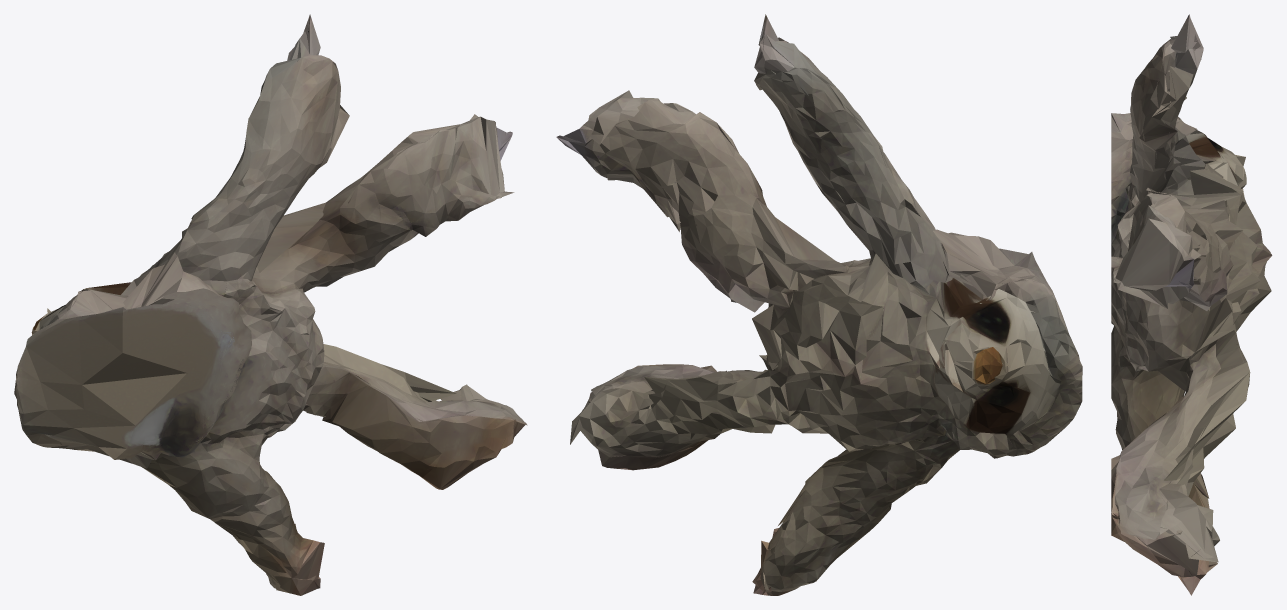
Rendered from appearance.glb.
The picture shows the model from 3 angles, left to right: view 1: azimuth 30°, elevation 25°; view 2: azimuth 150°, elevation 25°; view 3: azimuth 270°, elevation 25°; orthographic projection.
Visible parts, largest first — view 1: world; view 2: world; view 3: world.
Part boxes in pixels (x1,y1,x2,y2): world: [14, 14, 527, 595]; world: [556, 14, 1082, 595]; world: [1111, 14, 1272, 595].
Size of the model in its own units: 0.3506 by 0.379 by 0.0959.
Materials: 1 (1 with a texture image).
